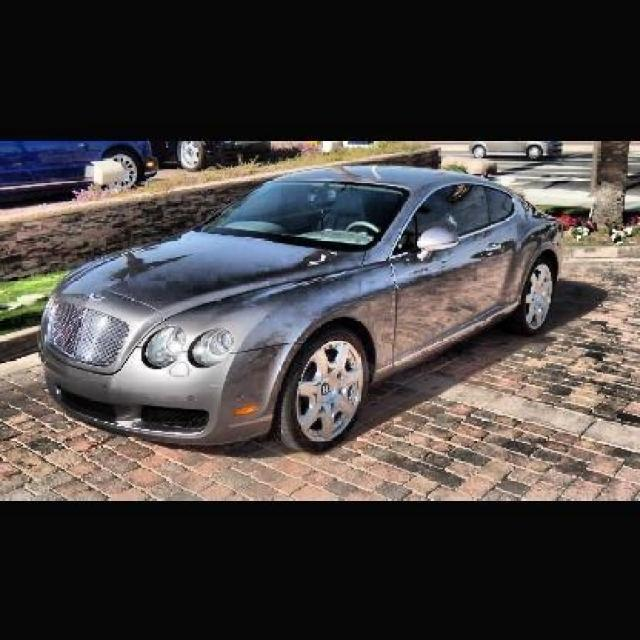black: (16, 166, 585, 427)
